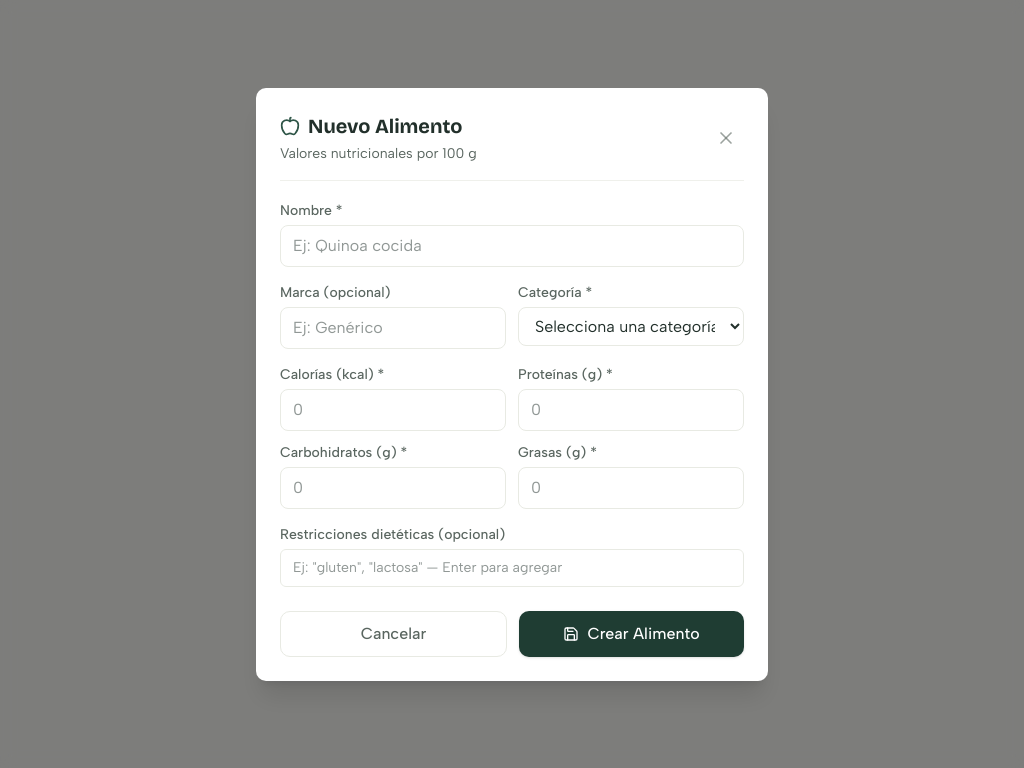
ModalNuevoAlimento › handleGuardar — validaciones › nombre vacío muestra error "El nombre del alimento es obligatorio"
Click the button "Crear Alimento" at [632, 634], box [519,610,744,656]
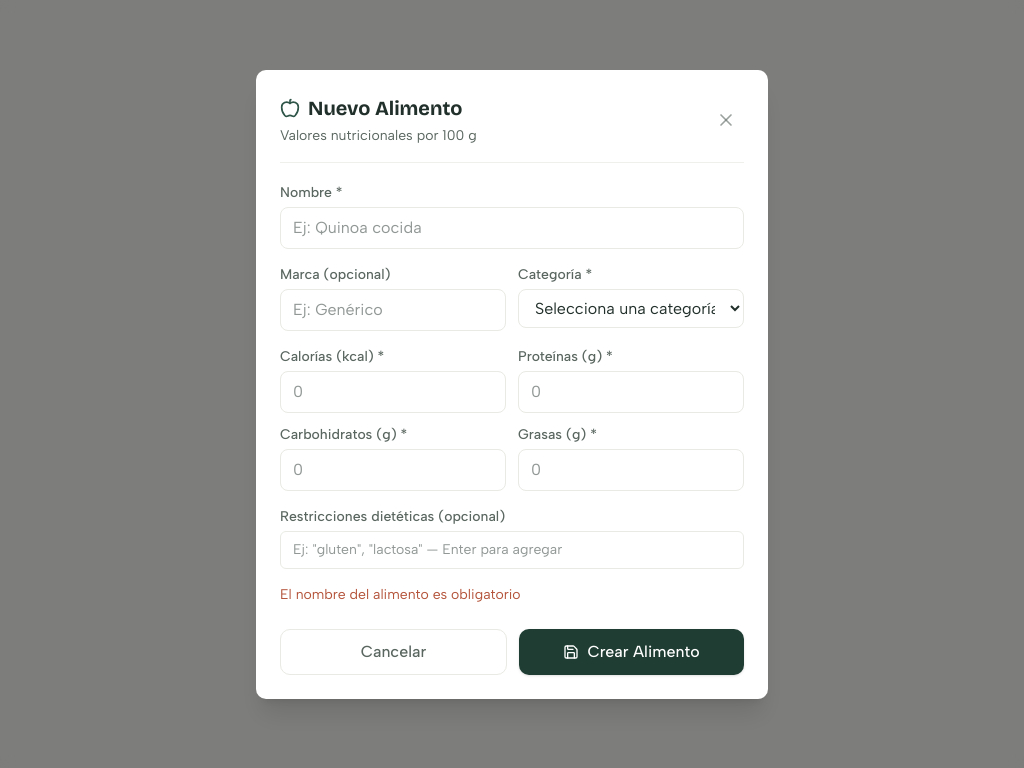
Result: the text "El nombre del alimento es obligatorio" is shown at [280,586,521,602]
